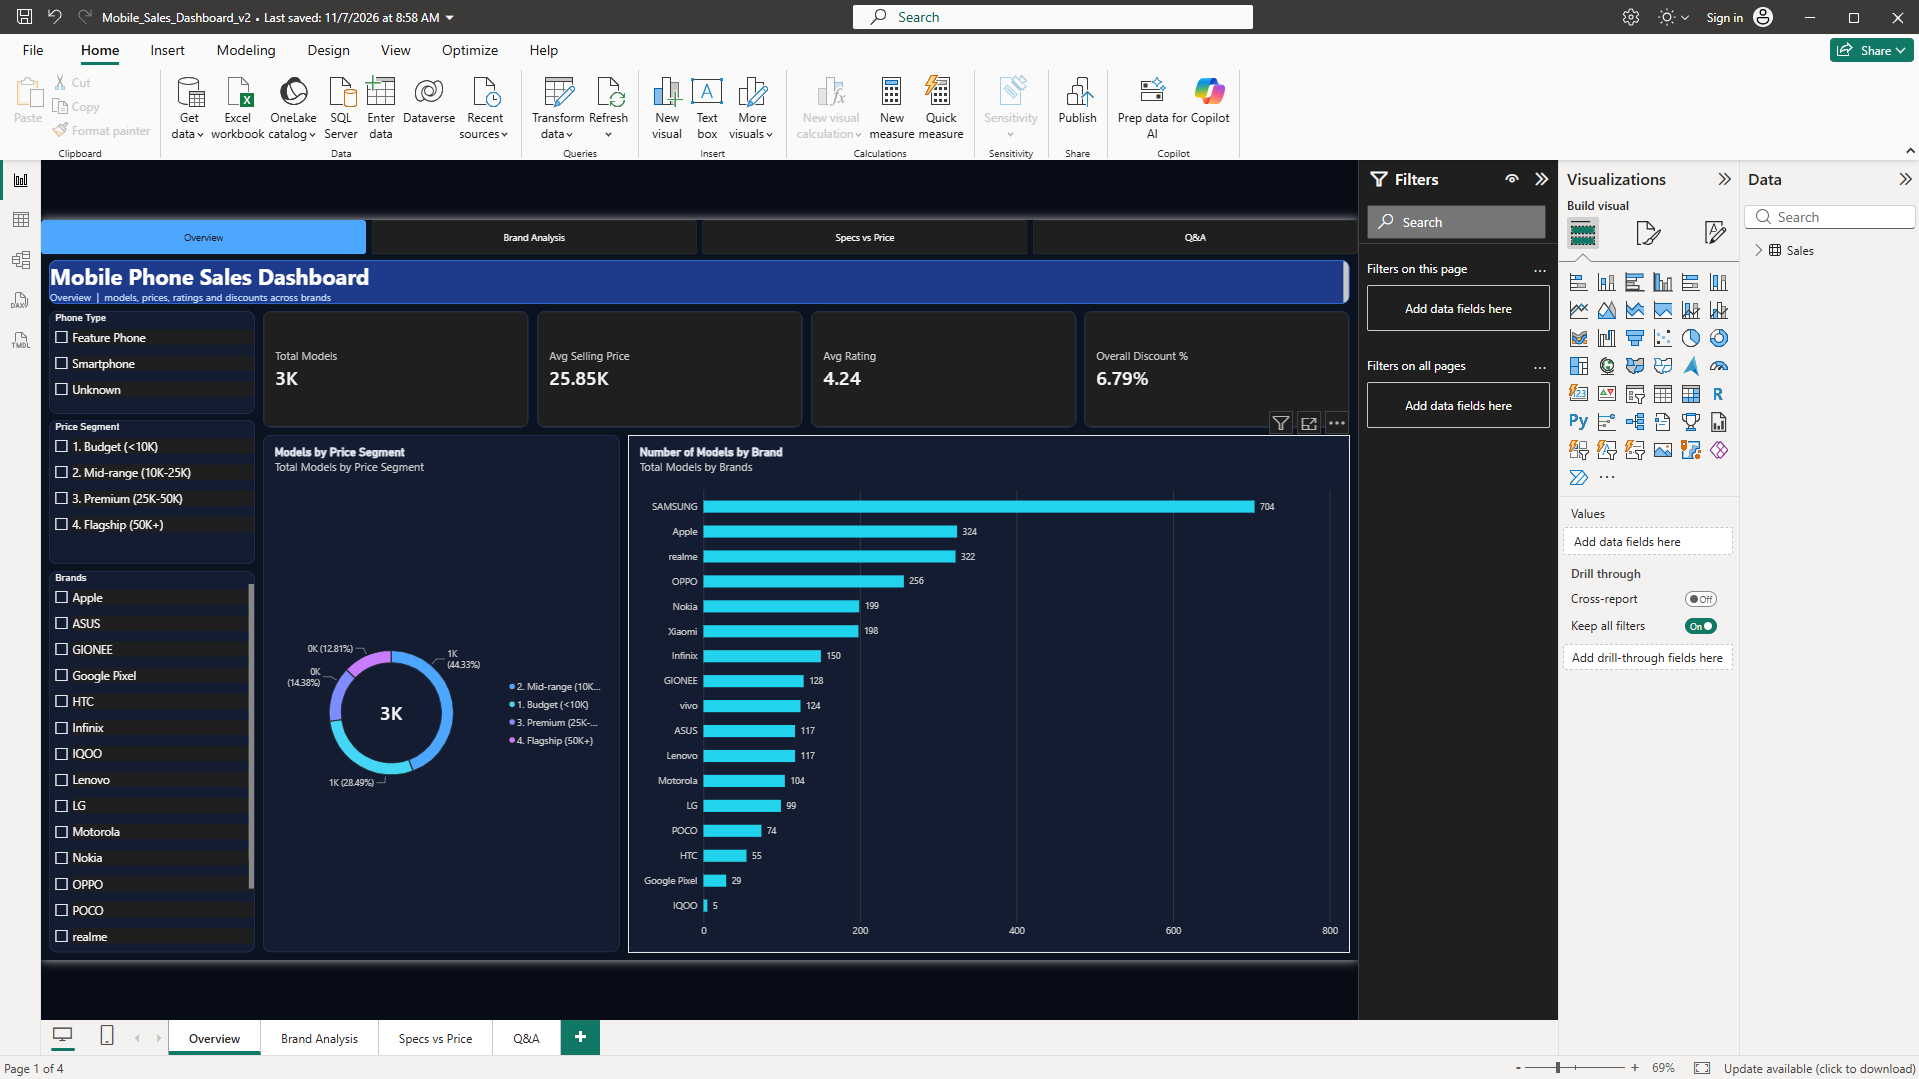

The page's visual inventory and layout, read from the dashboard file:
{"tool":"powerbi","page":{"name":"Overview","canvas":[1920,1080],"ordinal":0},"visuals":[{"type":"cardVisual","fields":{"Data":["Sales.Total Models"]},"box":[324,132,387,170],"z":0},{"type":"cardVisual","fields":{"Data":["Sales.Avg Selling Price"]},"box":[723,132,387,170],"z":1000},{"type":"cardVisual","fields":{"Data":["Sales.Avg Rating"]},"box":[1122,132,387,170],"z":2000},{"type":"cardVisual","fields":{"Data":["Sales.Overall Discount %"]},"box":[1521,132,387,170],"z":3000},{"type":"donutChart","title":"Models by Price Segment","fields":{"Category":["Sales.Price Segment"],"Y":["Sales.Total Models"]},"box":[324,314,520,754],"z":4000},{"type":"clusteredBarChart","title":"Number of Models by Brand","fields":{"Category":["Sales.Brands"],"Y":["Sales.Total Models"]},"box":[856,314,1052,754],"z":5000},{"type":"slicer","title":"Phone Type","fields":{"Values":["Sales.Phone Type"]},"box":[12,132,300,150],"z":6000},{"type":"slicer","title":"Brands","fields":{"Values":["Sales.Brands"]},"box":[12,512,300,556],"z":7000},{"type":"slicer","title":"Price Segment","fields":{"Values":["Sales.Price Segment"]},"box":[12,292,300,210],"z":8000},{"type":"pageNavigator","box":[0,0,1920,50],"z":8001},{"type":"textbox","box":[12,58,1896,64],"z":9000}]}

Visuals, with their boxes on the page's 1920x1080 design canvas (x1, y1, x2, y2). These are canvas units, not pixel positions in the 1919x1079 screenshot, which may show the page scaled, cropped or inside an application window:
cardVisual - Sales.Total Models: (left=324, top=132, right=711, bottom=302)
cardVisual - Sales.Avg Selling Price: (left=723, top=132, right=1110, bottom=302)
cardVisual - Sales.Avg Rating: (left=1122, top=132, right=1509, bottom=302)
cardVisual - Sales.Overall Discount %: (left=1521, top=132, right=1908, bottom=302)
"Models by Price Segment" donutChart: (left=324, top=314, right=844, bottom=1068)
"Number of Models by Brand" clusteredBarChart: (left=856, top=314, right=1908, bottom=1068)
"Phone Type" slicer: (left=12, top=132, right=312, bottom=282)
"Brands" slicer: (left=12, top=512, right=312, bottom=1068)
"Price Segment" slicer: (left=12, top=292, right=312, bottom=502)
pageNavigator: (left=0, top=0, right=1920, bottom=50)
textbox: (left=12, top=58, right=1908, bottom=122)
